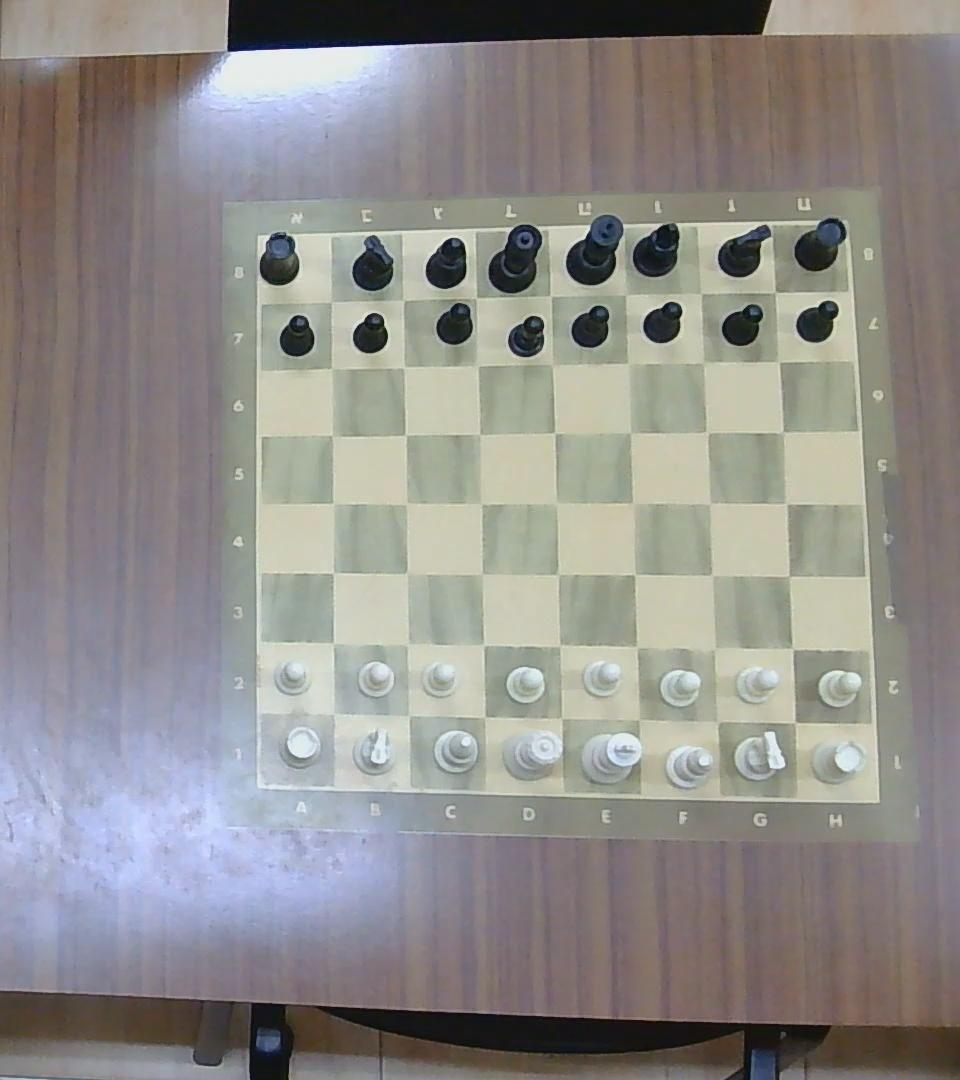xcorner: (620, 701, 654, 735), (699, 703, 732, 737), (776, 705, 810, 738), (543, 701, 576, 733), (620, 630, 652, 662), (698, 631, 729, 664), (619, 557, 650, 589), (318, 697, 349, 729), (392, 699, 423, 731), (543, 628, 574, 660), (468, 701, 500, 732), (776, 632, 807, 663), (317, 627, 347, 658), (543, 558, 573, 589), (772, 560, 803, 590), (468, 629, 498, 659), (466, 558, 496, 588), (697, 560, 727, 590), (392, 629, 422, 659), (392, 557, 422, 586), (618, 488, 648, 517), (317, 557, 346, 586), (466, 488, 495, 517), (461, 282, 490, 311), (542, 488, 571, 517), (615, 417, 644, 446), (317, 419, 345, 448), (316, 352, 345, 380), (318, 488, 346, 517), (537, 350, 566, 378), (611, 279, 640, 307), (536, 281, 565, 309), (388, 284, 416, 313), (771, 489, 801, 516), (316, 286, 345, 313), (694, 489, 723, 516), (767, 418, 796, 445), (392, 489, 420, 516), (391, 420, 419, 447), (540, 418, 568, 445), (465, 420, 493, 447), (614, 349, 642, 376), (464, 350, 491, 377), (693, 417, 721, 443), (388, 353, 416, 378), (688, 280, 714, 306), (762, 279, 789, 304), (690, 348, 715, 373), (766, 349, 791, 372)
